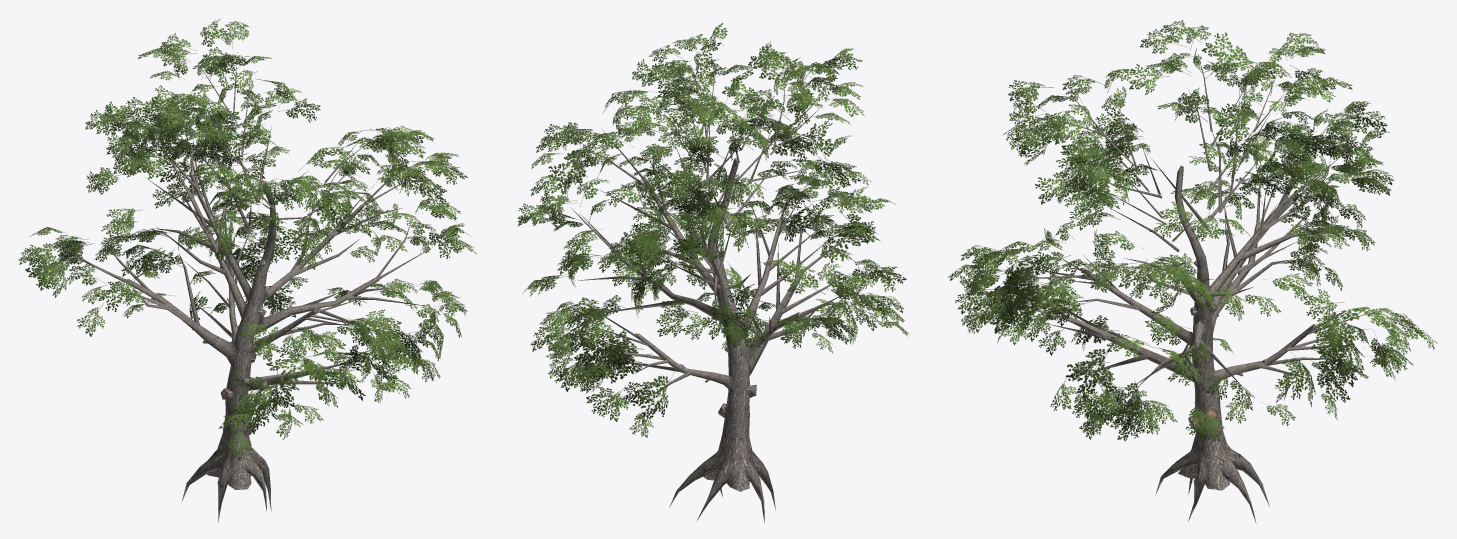
Rendered from tree_low_poly.glb.
3 views of the same model, side by side, from view 1: azimuth 30°, elevation 25°; view 2: azimuth 150°, elevation 25°; view 3: azimuth 270°, elevation 25° (orthographic). The views are drawn at different scales.
Parts seen in each view (by area): view 1: Tree_by_saif_1; view 2: Tree_by_saif_1; view 3: Tree_by_saif_1.
Boxes of the visible parts, x1,y1,x2,y2 form: Tree_by_saif_1: (18, 19, 476, 522); Tree_by_saif_1: (517, 23, 908, 522); Tree_by_saif_1: (948, 20, 1437, 523).
Bounding box in the file's own units: 19.97 × 21.14 × 20.08.
Materials: 5 (5 with a texture image).
